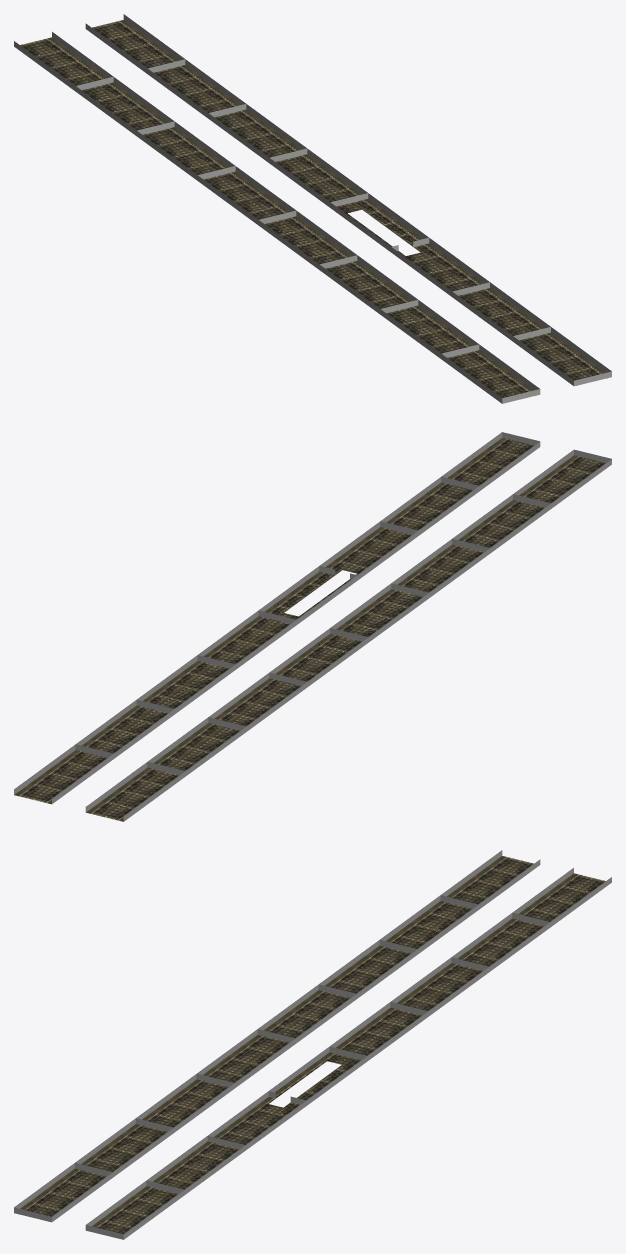
File: Metro113RecoveredRoofCentre.fbx
3 renders of one model, top to bottom at view 1: azimuth 30°, elevation 25°; view 2: azimuth 150°, elevation 25°; view 3: azimuth 330°, elevation 25°, orthographic.
Parts seen in each view (by area): view 1: RoofCentre_103_0, RoofCentre_180_0, RoofCentre_182_0, RoofCentre_25_0, RoofCentre_2_0, RoofCentre_77_0, RoofCentre_127_0, RoofCentre_4_0, RoofCentre_149_0, RoofCentre_151_0, RoofCentre_23_0, RoofCentre_55_0 (+19 smaller); view 2: RoofCentre_182_0, RoofCentre_180_0, RoofCentre_103_0, RoofCentre_151_0, RoofCentre_25_0, RoofCentre_23_0, RoofCentre_127_0, RoofCentre_77_0, RoofCentre_129_0, RoofCentre_4_0, RoofCentre_149_0, RoofCentre_2_0 (+18 smaller); view 3: RoofCentre_180_0, RoofCentre_77_0, RoofCentre_149_0, RoofCentre_151_0, RoofCentre_2_0, RoofCentre_127_0, RoofCentre_129_0, RoofCentre_23_0, RoofCentre_101_0, RoofCentre_25_0, RoofCentre_4_0, RoofCentre_182_0 (+18 smaller).
Part boxes in pixels (x1,y1,x2,y2): RoofCentre_103_0: [283, 155, 356, 200]; RoofCentre_180_0: [92, 23, 164, 68]; RoofCentre_182_0: [20, 41, 93, 85]; RoofCentre_25_0: [386, 309, 458, 353]; RoofCentre_2_0: [519, 336, 591, 380]; RoofCentre_77_0: [264, 219, 336, 264]; RoofCentre_127_0: [214, 113, 286, 157]; RoofCentre_4_0: [448, 353, 519, 397]; RoofCentre_149_0: [153, 68, 225, 112]; RoofCentre_151_0: [82, 86, 154, 130]; RoofCentre_23_0: [458, 291, 530, 335]; RoofCentre_55_0: [325, 264, 395, 308]; RoofCentre_182_0: [100, 771, 177, 820]; RoofCentre_180_0: [30, 753, 106, 802]; RoofCentre_103_0: [206, 618, 281, 666]; RoofCentre_151_0: [161, 726, 239, 775]; RoofCentre_25_0: [465, 503, 544, 552]; RoofCentre_23_0: [394, 486, 472, 535]; RoofCentre_127_0: [155, 665, 228, 713]; RoofCentre_77_0: [344, 593, 422, 640]; RoofCentre_129_0: [226, 681, 300, 730]; RoofCentre_4_0: [526, 459, 605, 508]; RoofCentre_149_0: [92, 709, 167, 757]; RoofCentre_2_0: [462, 441, 533, 485]; RoofCentre_180_0: [523, 874, 597, 919]; RoofCentre_77_0: [208, 1036, 281, 1080]; RoofCentre_149_0: [463, 919, 535, 964]; RoofCentre_151_0: [391, 902, 464, 946]; RoofCentre_2_0: [97, 1187, 169, 1231]; RoofCentre_127_0: [402, 964, 474, 1008]; RoofCentre_129_0: [330, 947, 402, 990]; RoofCentre_23_0: [158, 1143, 230, 1187]; RoofCentre_101_0: [278, 993, 350, 1038]; RoofCentre_25_0: [86, 1125, 157, 1169]; RoofCentre_4_0: [25, 1170, 98, 1214]; RoofCentre_182_0: [452, 857, 524, 901].
Bounding box in the file's own units: 2600 × 143 × 20030.
Materials: 6 (3 with a texture image).
